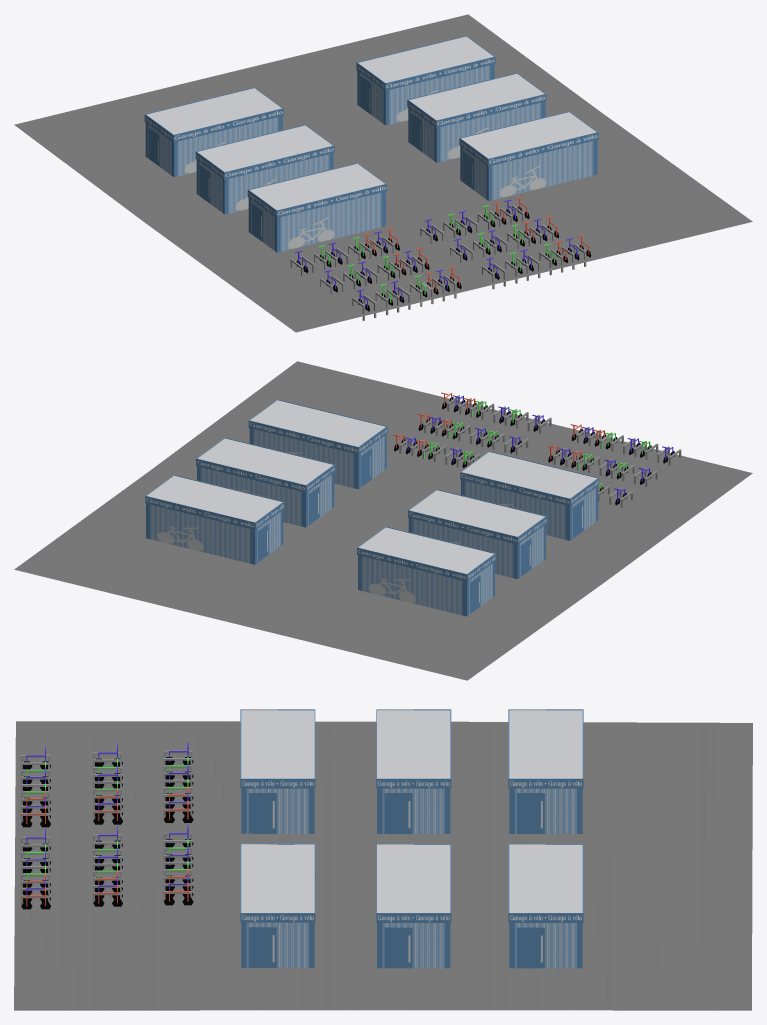
Rendered from garageVelo.glb.
3 views of the same model, one above another, from view 1: azimuth 30°, elevation 25°; view 2: azimuth 150°, elevation 25°; view 3: azimuth 270°, elevation 25° (orthographic). The views are drawn at different scales.
Visible parts, largest first — view 1: map.002; view 2: map.002; view 3: map.002.
Boxes of the visible parts, left/top/right/bottom form: map.002: left=14, top=14, right=752, bottom=332; map.002: left=14, top=361, right=752, bottom=680; map.002: left=14, top=709, right=752, bottom=1010.
Size of the model in its own units: 15.04 by 1.54 by 16.23.
6 materials, 6 textured.
